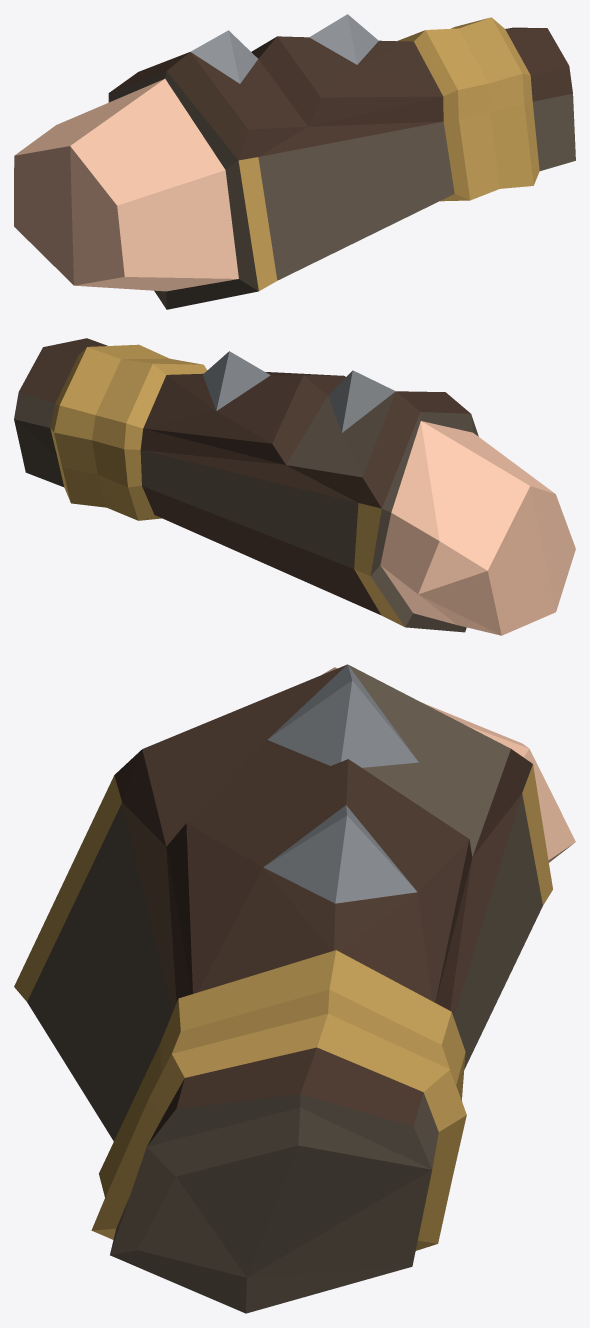
Rendered from Chr_ArmLowerLeft_Male_01_Static.fbx.
3 renders of one model, top to bottom at view 1: azimuth 30°, elevation 25°; view 2: azimuth 150°, elevation 25°; view 3: azimuth 270°, elevation 25°, orthographic. The views are drawn at different scales.
Visible parts, largest first — view 1: Chr_ArmLowerLeft_Male_01_Static; view 2: Chr_ArmLowerLeft_Male_01_Static; view 3: Chr_ArmLowerLeft_Male_01_Static.
Boxes of the visible parts, x1=… form: Chr_ArmLowerLeft_Male_01_Static: x1=14, y1=14, x2=575, y2=309; Chr_ArmLowerLeft_Male_01_Static: x1=14, y1=338, x2=575, y2=635; Chr_ArmLowerLeft_Male_01_Static: x1=14, y1=664, x2=575, y2=1313.
Size of the model in its own units: 0.2896 by 0.1385 by 0.1484.
